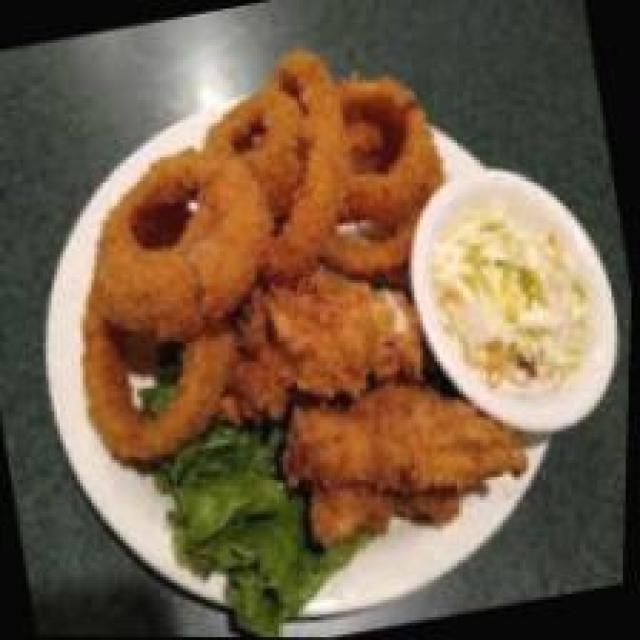Chicken Wings: (223, 250, 526, 550)
Onion Rings: (20, 10, 514, 479)
